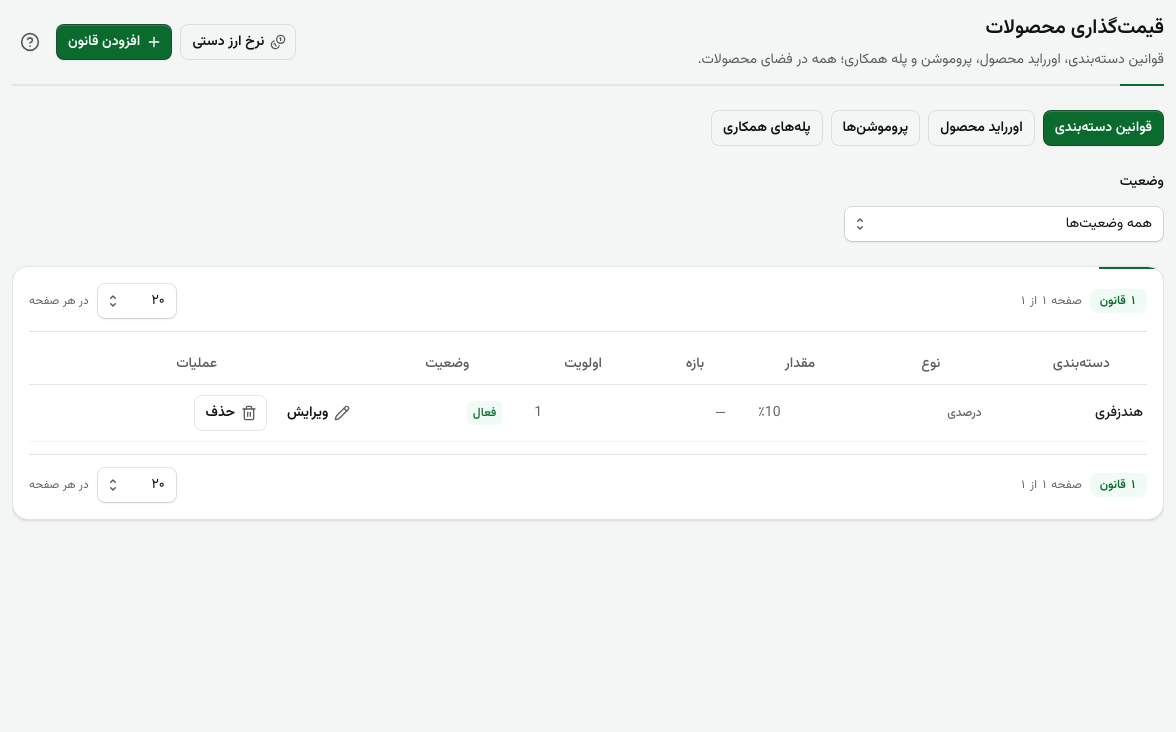
Test: PricingPage pagination (SS-268) › leaves the static partner-tier tab unpaginated
The width and height of the screenshot is (1176, 732).
Click the tab "پله‌های همکاری" at (767, 128), box x1=711 y1=110 x2=823 y2=146
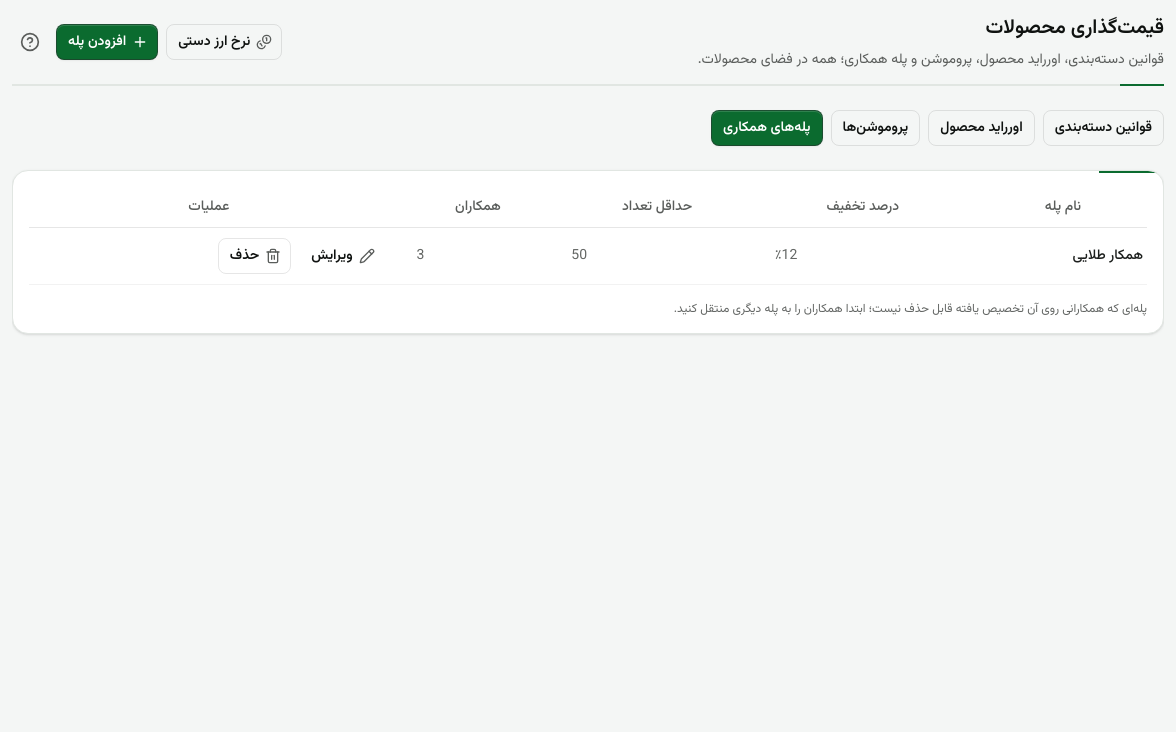
expect the text "همکار طلایی" is shown: met, box x1=967 y1=228 x2=1147 y2=284
